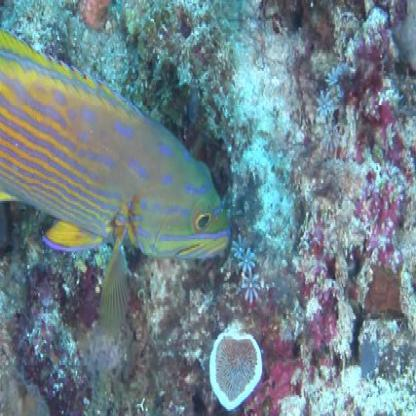Serranidae -Groupers-: (1, 25, 232, 334)
